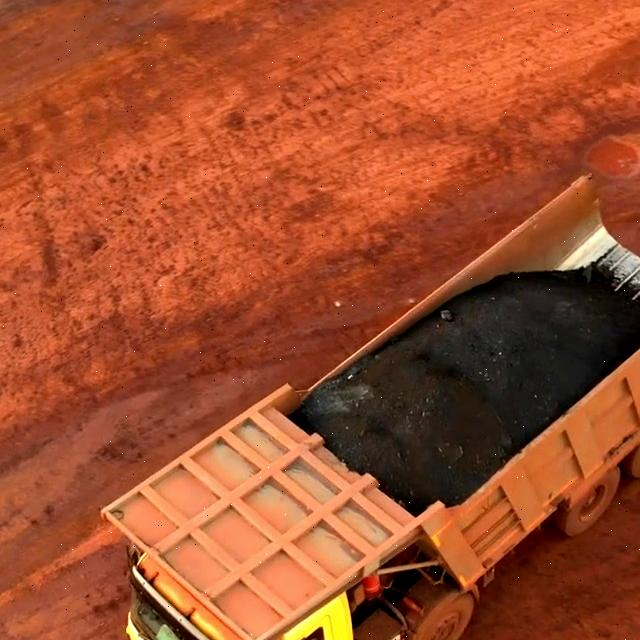Dumper truck: (113, 489, 424, 640)
